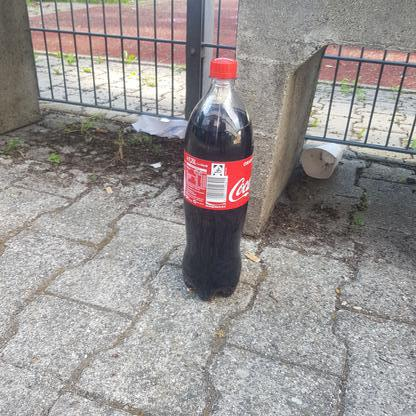coca-cola: (180, 57, 256, 304)
